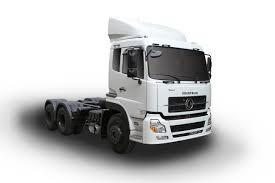truck: (43, 15, 213, 156)
